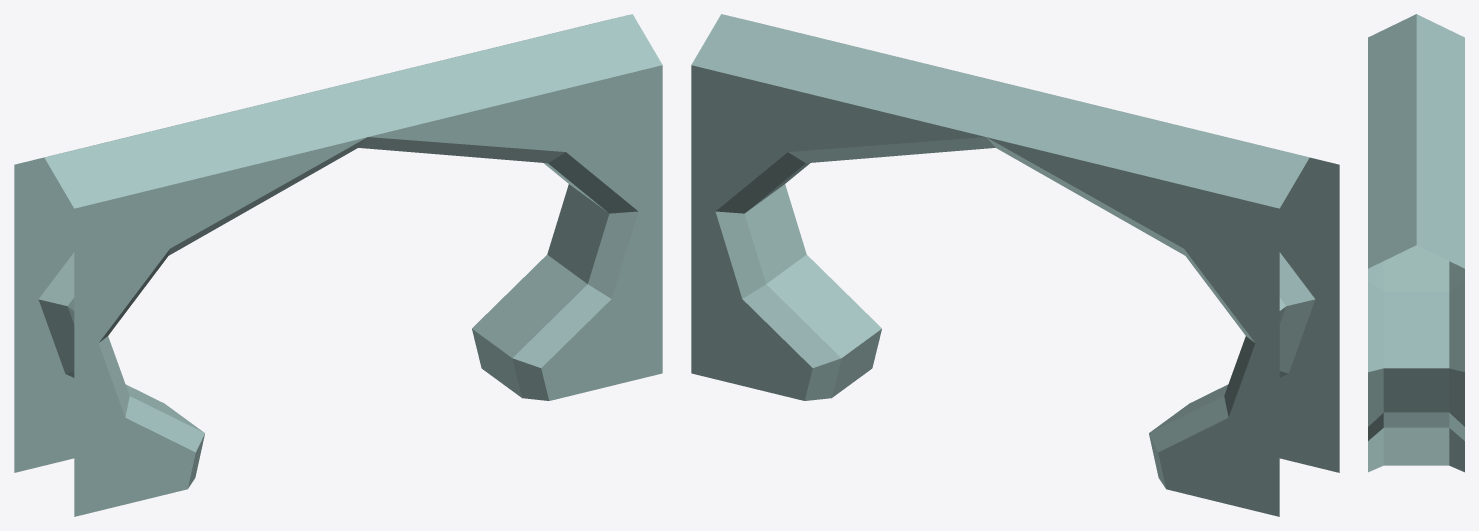
File: BRailCorner.fbx
The picture shows the model from 3 angles, left to right: view 1: azimuth 30°, elevation 25°; view 2: azimuth 150°, elevation 25°; view 3: azimuth 270°, elevation 25°; orthographic projection. The views are drawn at different scales.
Parts seen in each view (by area): view 1: BRailCorner; view 2: BRailCorner; view 3: BRailCorner.
Part boxes in pixels (x1,y1,x2,y2): BRailCorner: [14, 14, 662, 516]; BRailCorner: [691, 14, 1339, 516]; BRailCorner: [1368, 14, 1464, 472].
Size of the model in its own units: 283 by 155 by 50.
